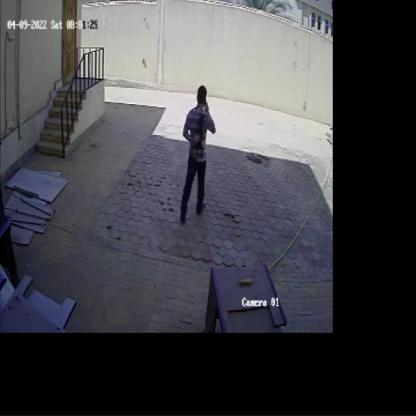handgun: (189, 112, 208, 155)
